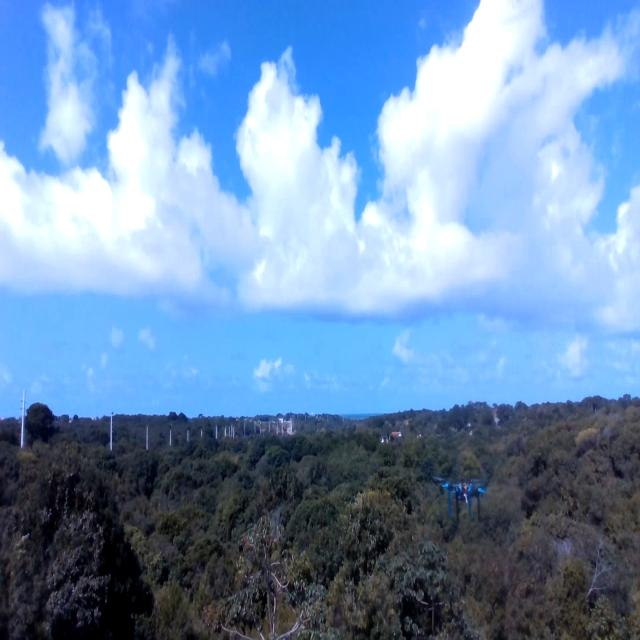-uav-: (434, 466, 488, 530)
